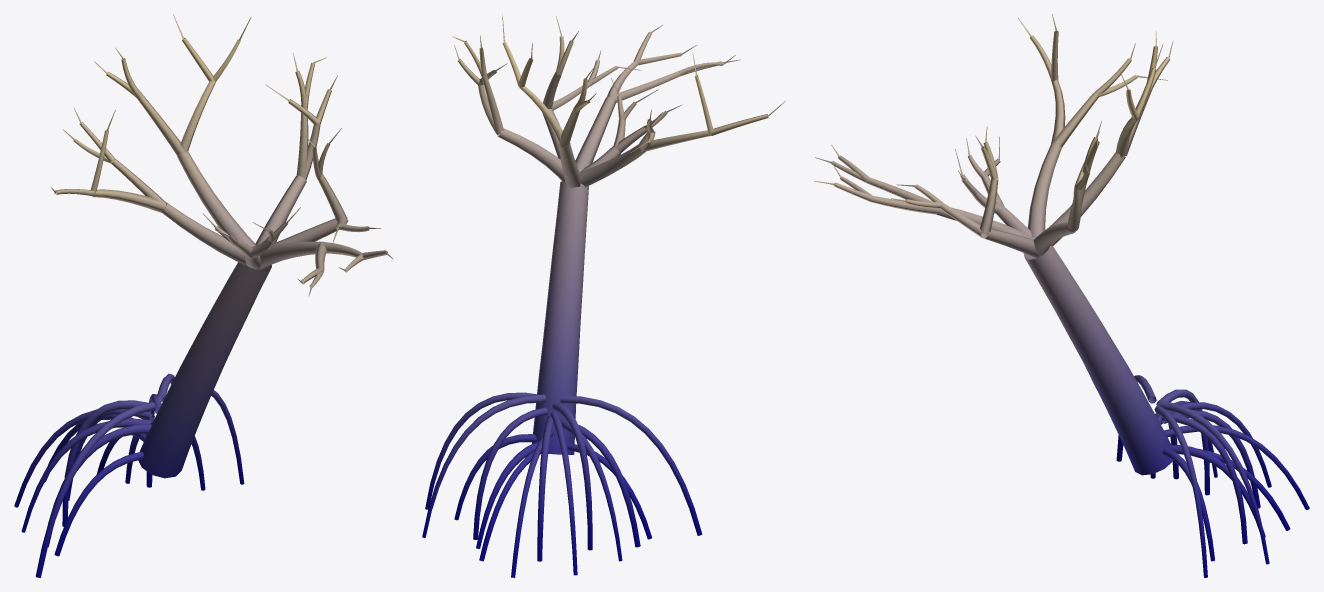
The model's file is mangrove_dead.glb.
3 views of the same model, side by side, from view 1: azimuth 30°, elevation 25°; view 2: azimuth 150°, elevation 25°; view 3: azimuth 270°, elevation 25° (orthographic). The views are drawn at different scales.
Parts seen in each view (by area): view 1: mangrove_dead; view 2: mangrove_dead; view 3: mangrove_dead.
Boxes of the visible parts, x1=… form: mangrove_dead: x1=14, y1=14, x2=393, y2=577; mangrove_dead: x1=422, y1=14, x2=785, y2=577; mangrove_dead: x1=814, y1=14, x2=1309, y2=577.
Size of what is drawn, in the model's own units: 9.8 by 14.82 by 13.52.
